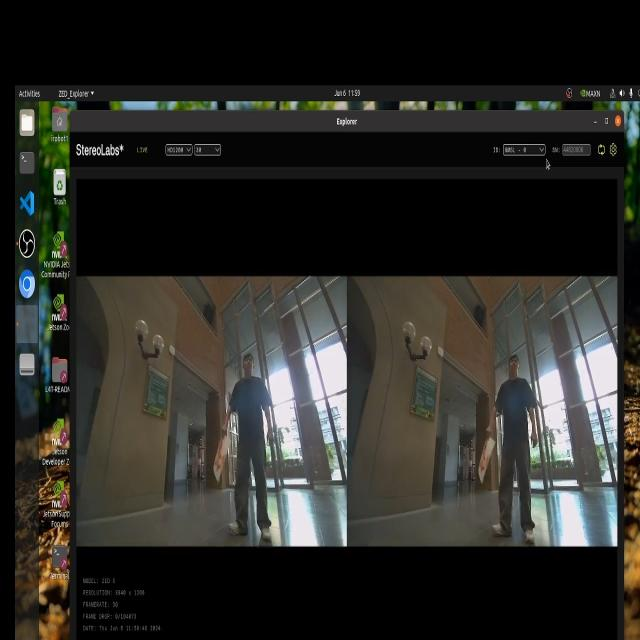red: (479, 439, 493, 485), (216, 436, 228, 479)
